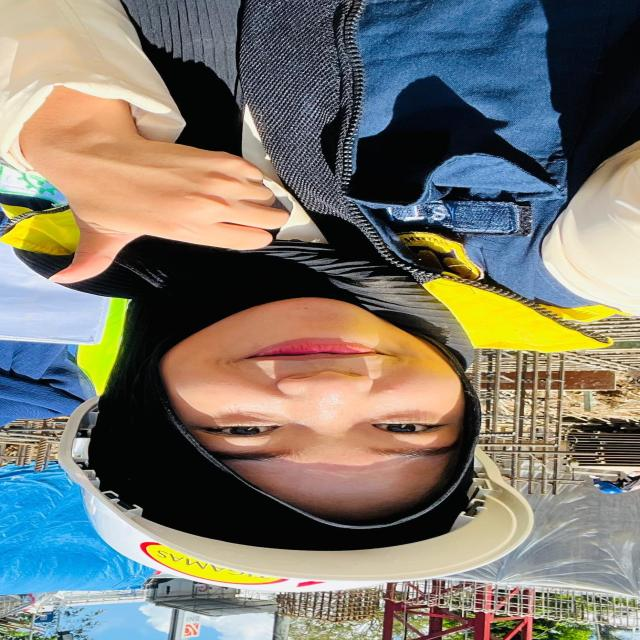safetyhelmet: (55, 291, 554, 596)
